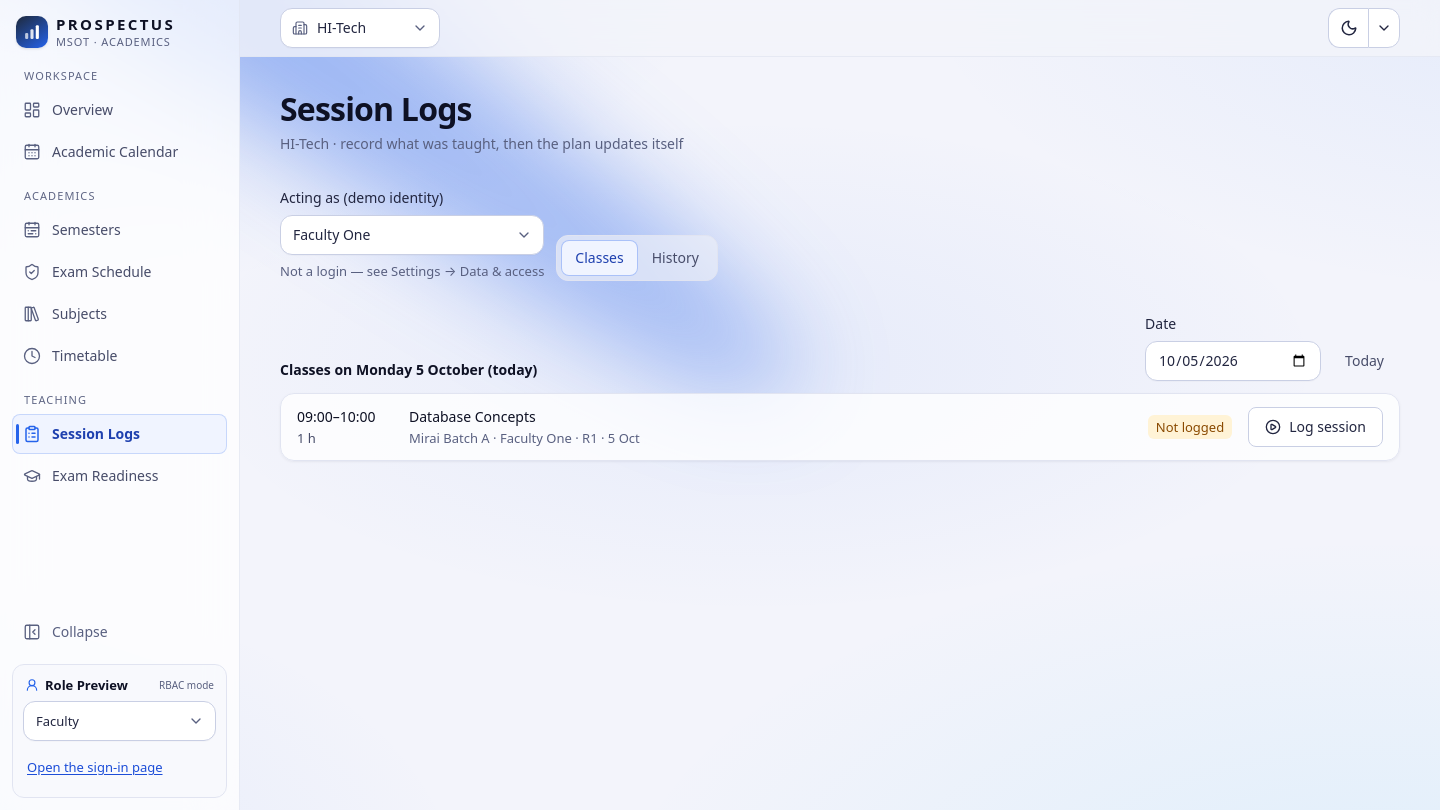
Test: smart carry-forward in the logging dialog › changes nothing when there is no unfinished work: no section, no extra fields
The width and height of the screenshot is (1440, 810).
Click the button with aria-label "Log session for Database Concepts, Mirai Batch A, 5 Oct".
click(1316, 427)  # box top-left (1248, 407), bottom-right (1383, 447)
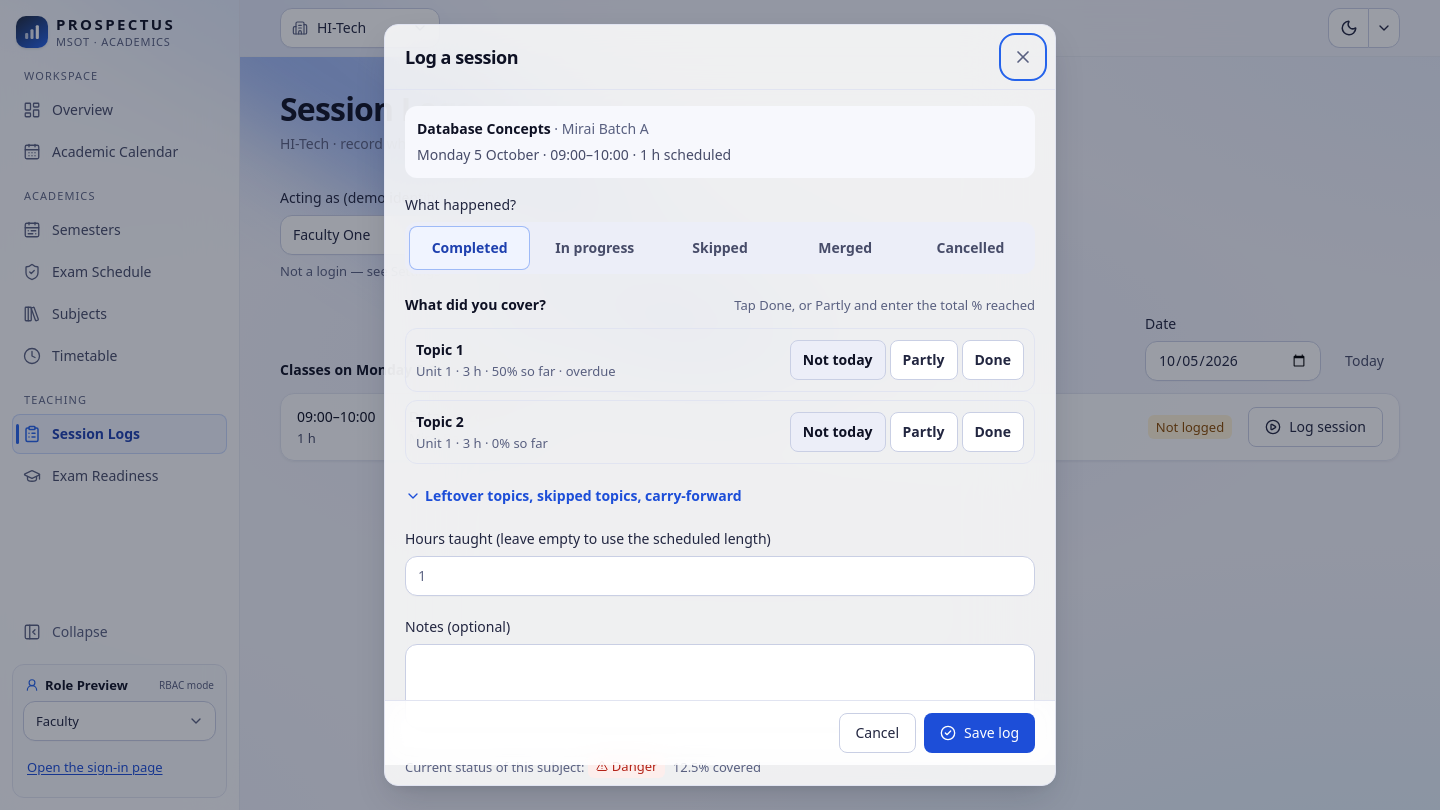
Check: the text "Monday 5 October · 09:00–10:00 · 1 h scheduled" is shown, box top-left (417, 145), bottom-right (731, 164)
